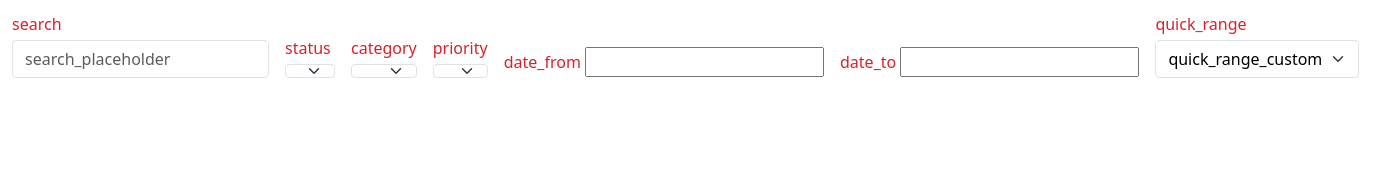
it: TableToolbar date range normalization › aligns dateFrom when dateTo is moved earlier
The width and height of the screenshot is (1378, 172).
In the field labelled "date_from": (704, 62) [585,47,824,77], type "2025-02-01"
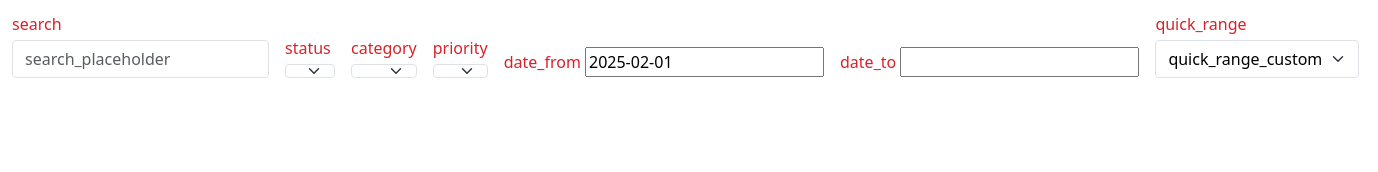
In the field labelled "date_to": (1020, 62) [900,47,1139,77], type "2025-01-01"
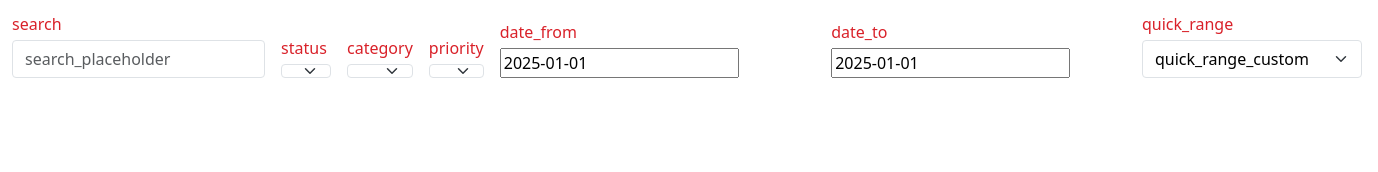
Check: the field labelled "date_from" holds "2025-01-01", box [500,48,739,78]
